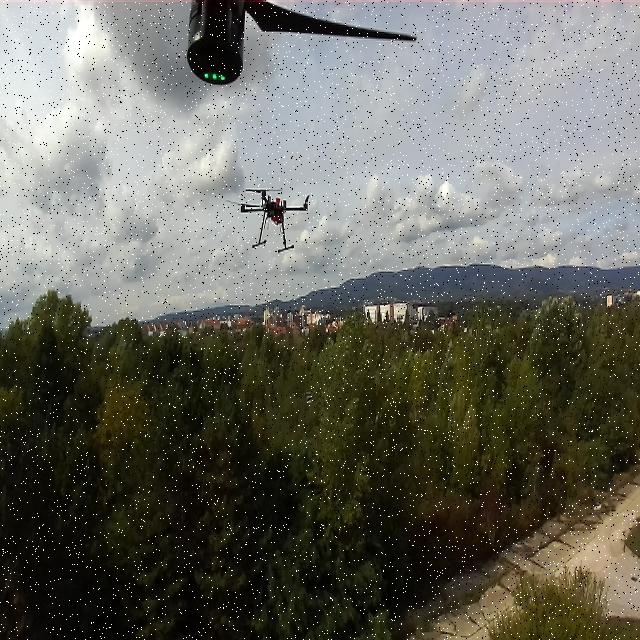UAV: (223, 185, 323, 258)
